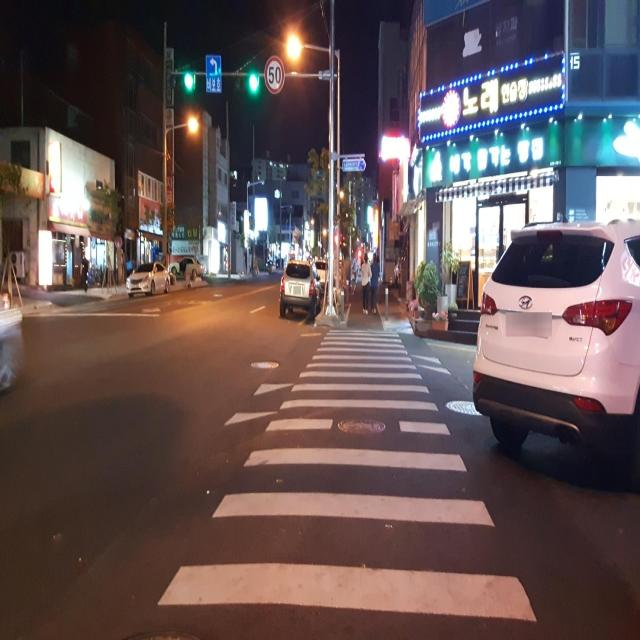횡단보도: (154, 322, 540, 630)
